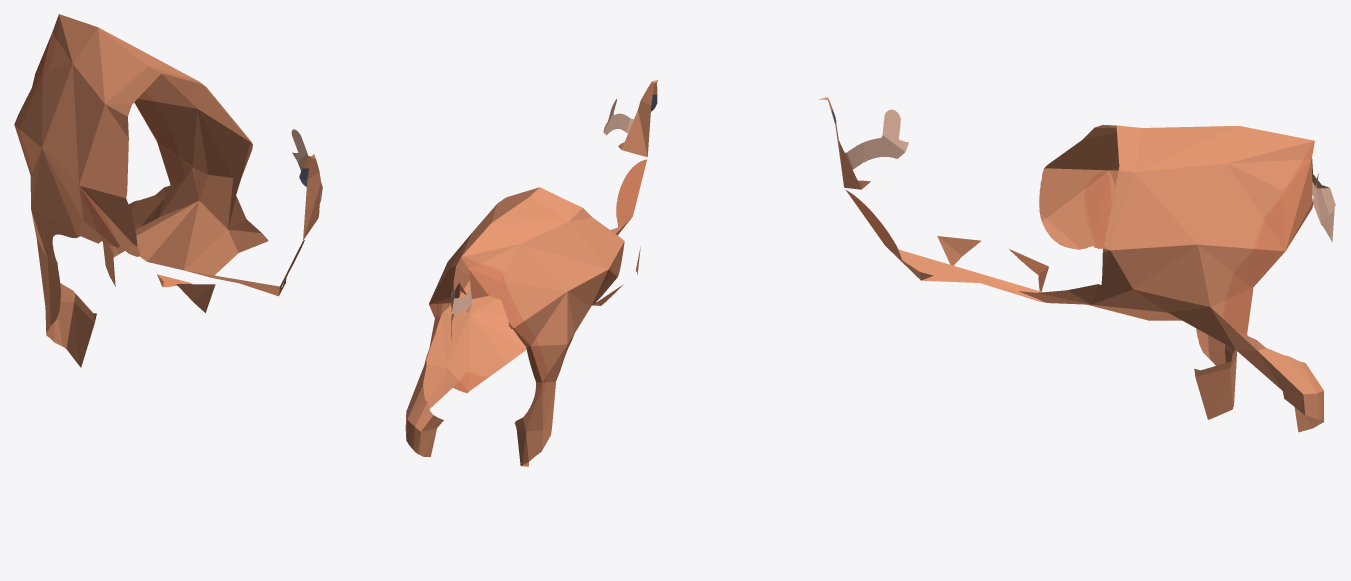
File: deer_lv1.fbx
3 renders of one model, left to right at view 1: azimuth 30°, elevation 25°; view 2: azimuth 150°, elevation 25°; view 3: azimuth 270°, elevation 25°, orthographic. The views are drawn at different scales.
Visible parts, largest first — view 1: pCube2; view 2: pCube2; view 3: pCube2.
Part boxes in pixels (x1,y1,x2,y2): pCube2: [14, 14, 322, 417]; pCube2: [405, 80, 657, 542]; pCube2: [819, 97, 1335, 432].
Bounding box in the file's own units: 7.97 × 24.74 × 25.18.
